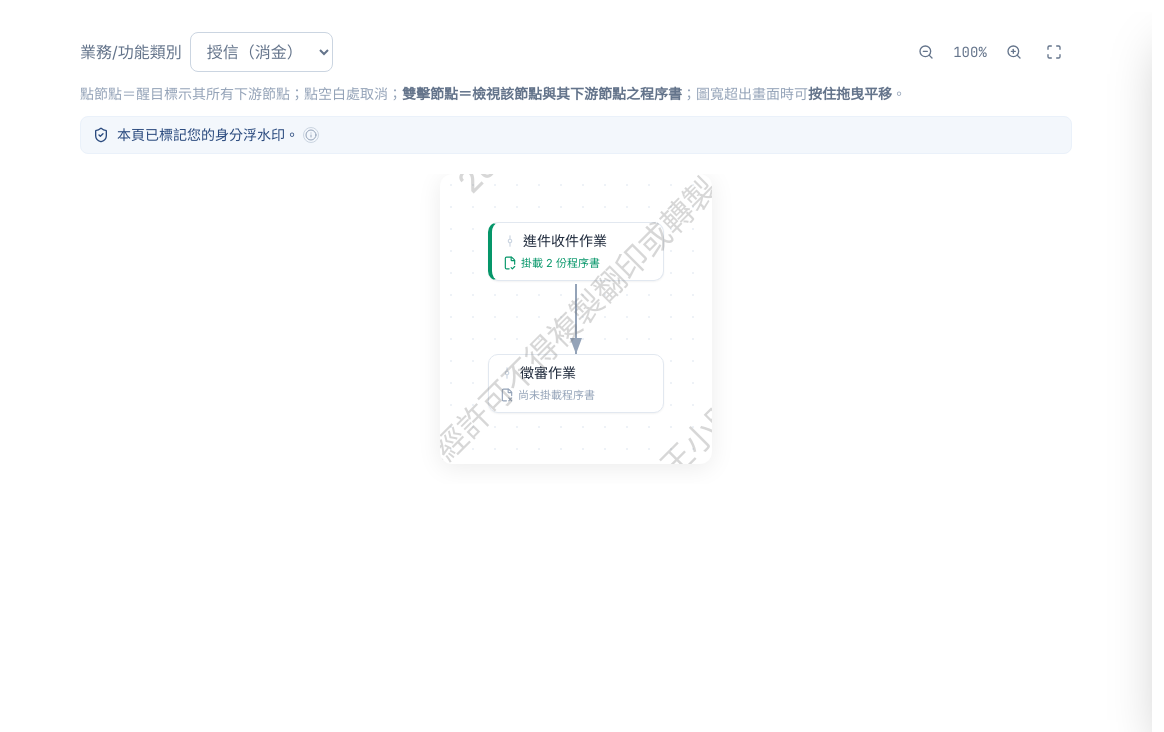
Test case: PublicCategoryTreePage — F043 己：前台樹狀圖瀏覽模式 › AC-B20 雙擊節點 → 唯讀抽屜列出**本節點與其下游節點**之可見程序書（四欄，無狀態欄）
Double-click the button with test id "tree-node-p1".
double_click(576, 251)  # box x1=488 y1=222 x2=664 y2=280
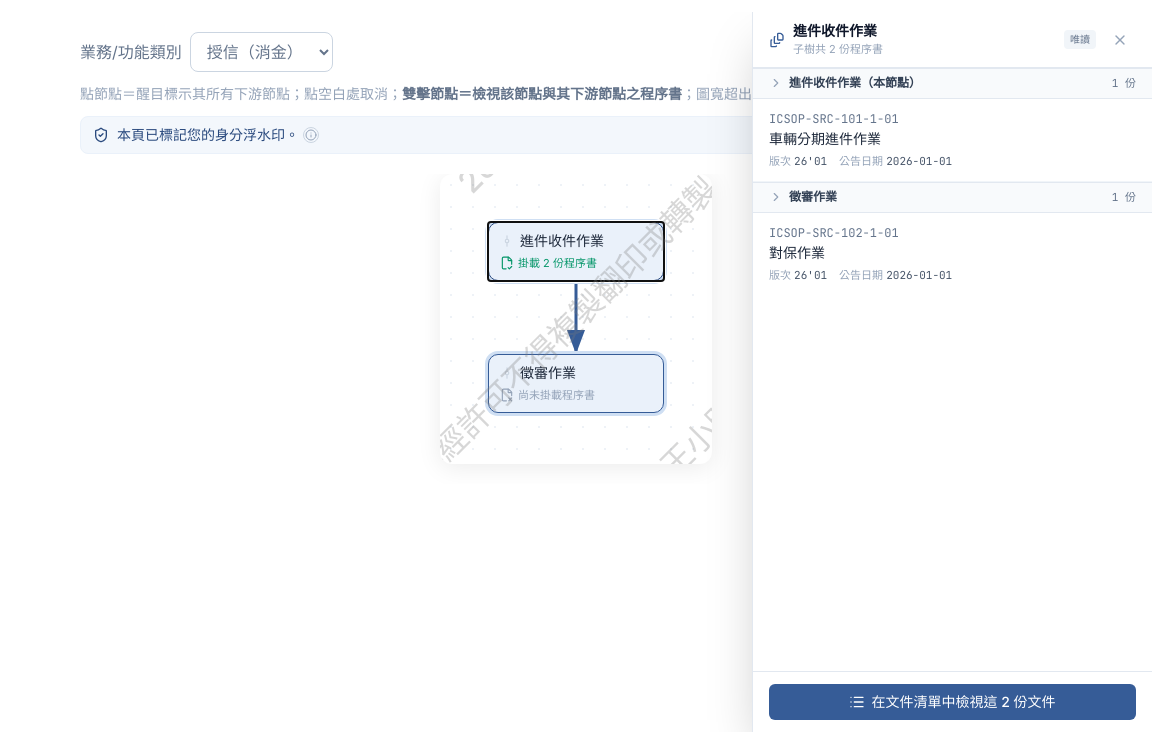
Result: the text "車輛分期進件作業" is shown at x1=769 y1=130 x2=881 y2=146
Result: the text "對保作業" is shown at x1=769 y1=244 x2=825 y2=260
